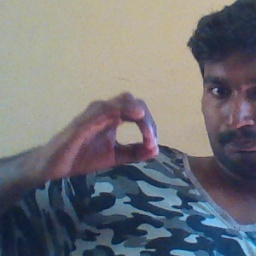O: (41, 88, 165, 178)
